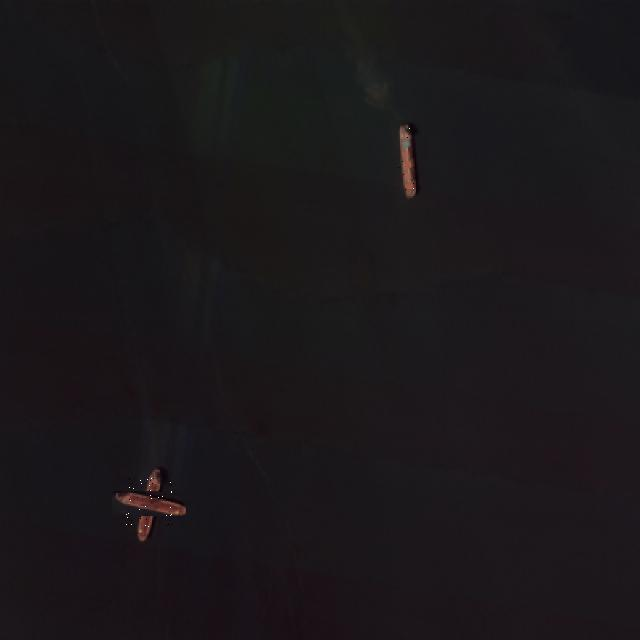boat: (124, 478, 174, 528), (397, 123, 416, 196)
